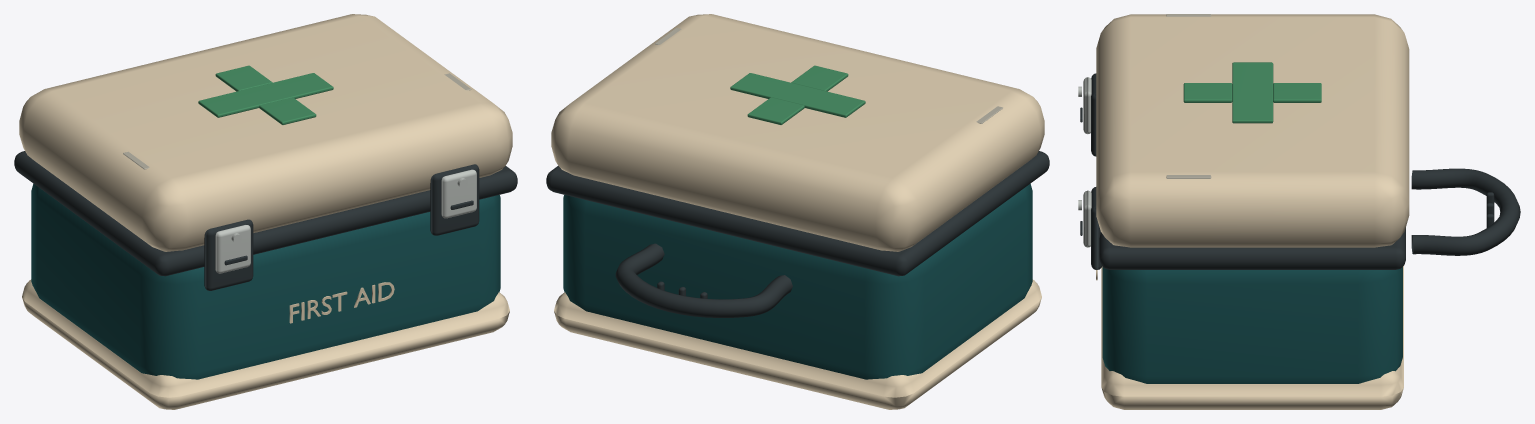
The model's file is first_aid_case_closed.glb.
3 views of the same model, side by side, from view 1: azimuth 30°, elevation 25°; view 2: azimuth 150°, elevation 25°; view 3: azimuth 270°, elevation 25° (orthographic). The views are drawn at different scales.
Parts seen in each view (by area): view 1: first_aid_case_closed__Shell_Warm_Cream, first_aid_case_closed__Enamel_Teal, first_aid_case_closed__Rubber_Graphite, first_aid_case_closed__Medical_Green, first_aid_case_closed__Brushed_Hardware; view 2: first_aid_case_closed__Shell_Warm_Cream, first_aid_case_closed__Enamel_Teal, first_aid_case_closed__Rubber_Graphite, first_aid_case_closed__Medical_Green; view 3: first_aid_case_closed__Shell_Warm_Cream, first_aid_case_closed__Enamel_Teal, first_aid_case_closed__Rubber_Graphite, first_aid_case_closed__Medical_Green, first_aid_case_closed__Brushed_Hardware.
Boxes of the visible parts, x1,y1,x2,y2 form: first_aid_case_closed__Shell_Warm_Cream: (19, 14, 512, 409); first_aid_case_closed__Enamel_Teal: (31, 183, 500, 379); first_aid_case_closed__Rubber_Graphite: (14, 151, 517, 290); first_aid_case_closed__Medical_Green: (198, 65, 333, 124); first_aid_case_closed__Brushed_Hardware: (215, 169, 476, 273); first_aid_case_closed__Shell_Warm_Cream: (551, 14, 1044, 409); first_aid_case_closed__Enamel_Teal: (563, 183, 1032, 379); first_aid_case_closed__Rubber_Graphite: (546, 151, 1049, 317); first_aid_case_closed__Medical_Green: (730, 65, 865, 124); first_aid_case_closed__Shell_Warm_Cream: (1096, 14, 1409, 409); first_aid_case_closed__Enamel_Teal: (1102, 267, 1402, 383); first_aid_case_closed__Rubber_Graphite: (1080, 73, 1520, 269); first_aid_case_closed__Medical_Green: (1183, 62, 1321, 123); first_aid_case_closed__Brushed_Hardware: (1078, 77, 1091, 247).
Bounding box in the file's own units: 0.34 × 0.2045 × 0.3462.
